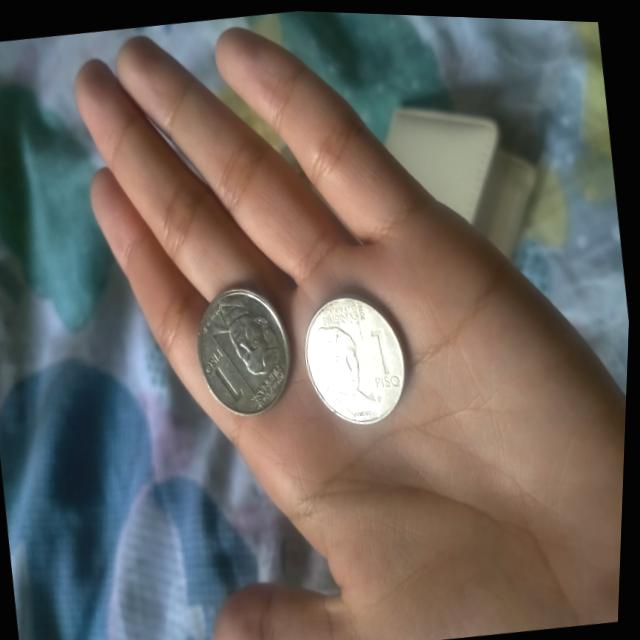1_New_Front: (197, 298, 290, 406)
